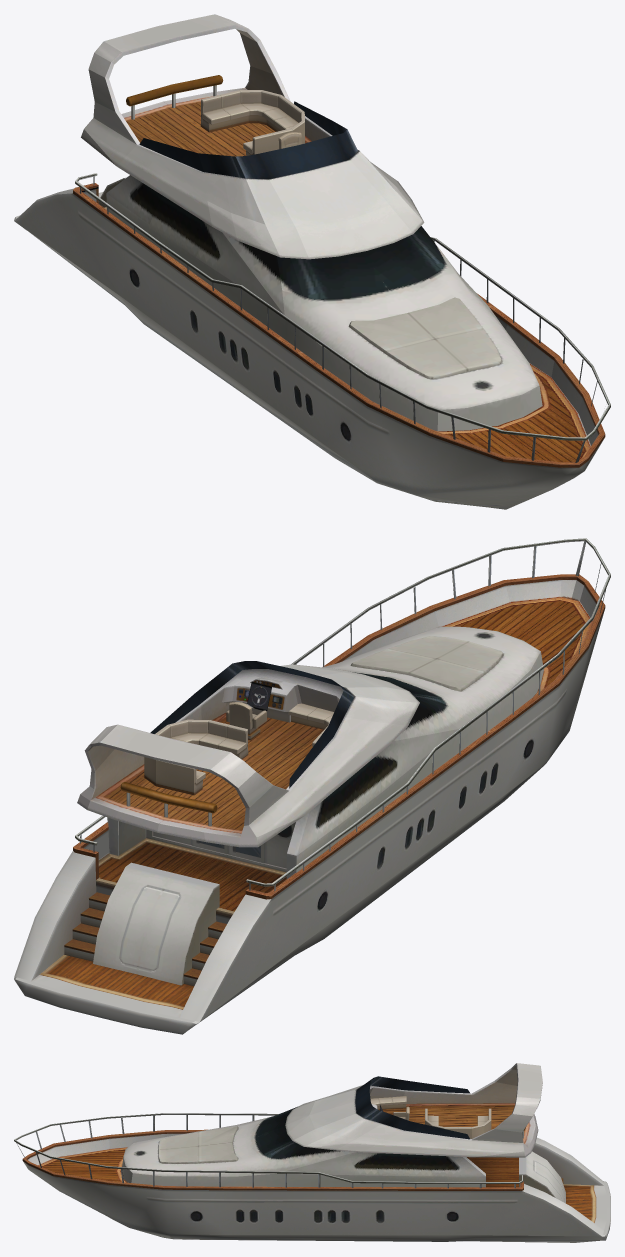
File: furni_0200958.FBX
3 renders of one model, top to bottom at view 1: azimuth 30°, elevation 25°; view 2: azimuth 150°, elevation 25°; view 3: azimuth 270°, elevation 25°, orthographic. The views are drawn at different scales.
Visible parts, largest first — view 1: furni_0200958; view 2: furni_0200958; view 3: furni_0200958.
Boxes of the visible parts, x1,y1,x2,y2 form: furni_0200958: [14, 14, 610, 509]; furni_0200958: [14, 538, 610, 1034]; furni_0200958: [14, 1063, 610, 1242].
Size of the model in its own units: 579 by 730 by 2452.
5 materials, 5 textured.
